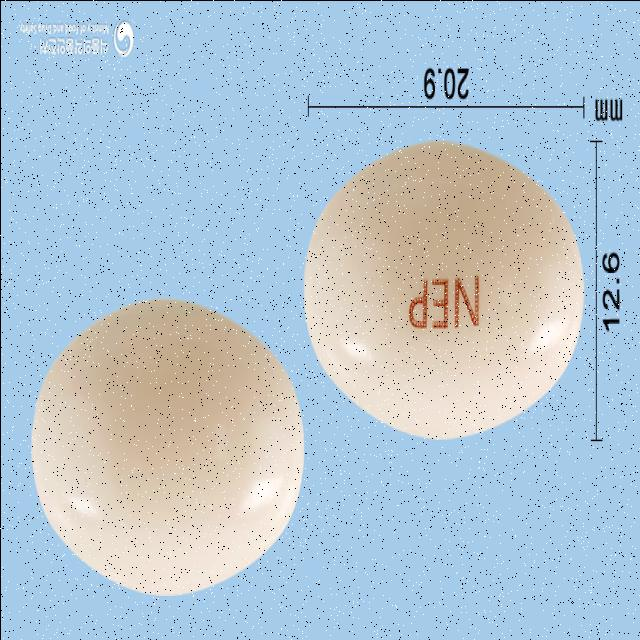Nepoxin Vaginal Soft Cap: (301, 140, 584, 443)
